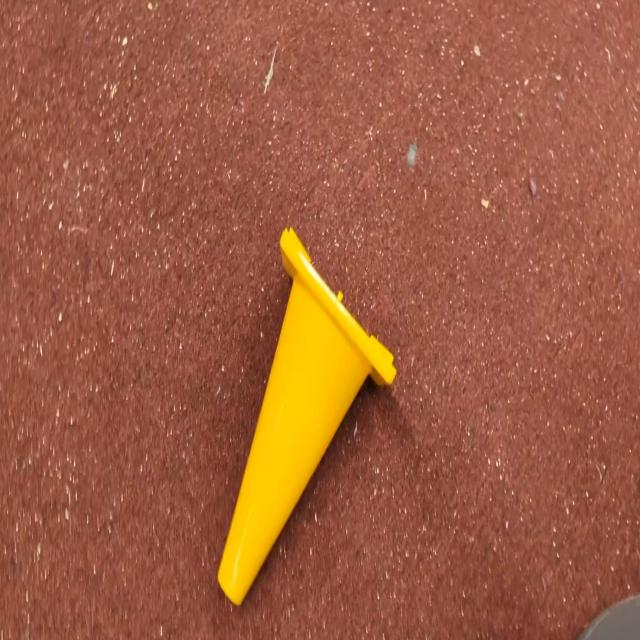frc_cone: (217, 223, 400, 605)
